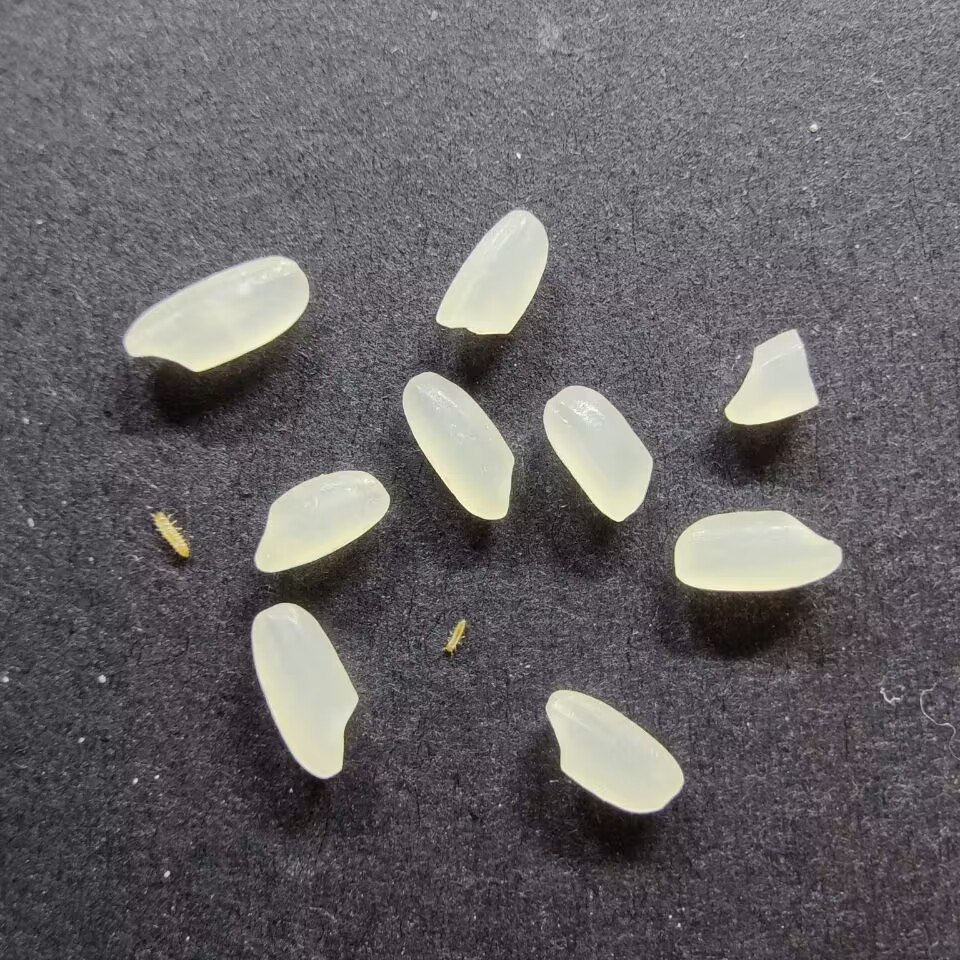broken: (721, 328, 819, 425)
others: (147, 505, 195, 564), (439, 612, 471, 658)
rice: (120, 254, 312, 373), (249, 602, 361, 780), (542, 688, 688, 815), (399, 369, 517, 522), (539, 383, 655, 524), (250, 466, 393, 577), (435, 203, 549, 338), (671, 508, 845, 593)
